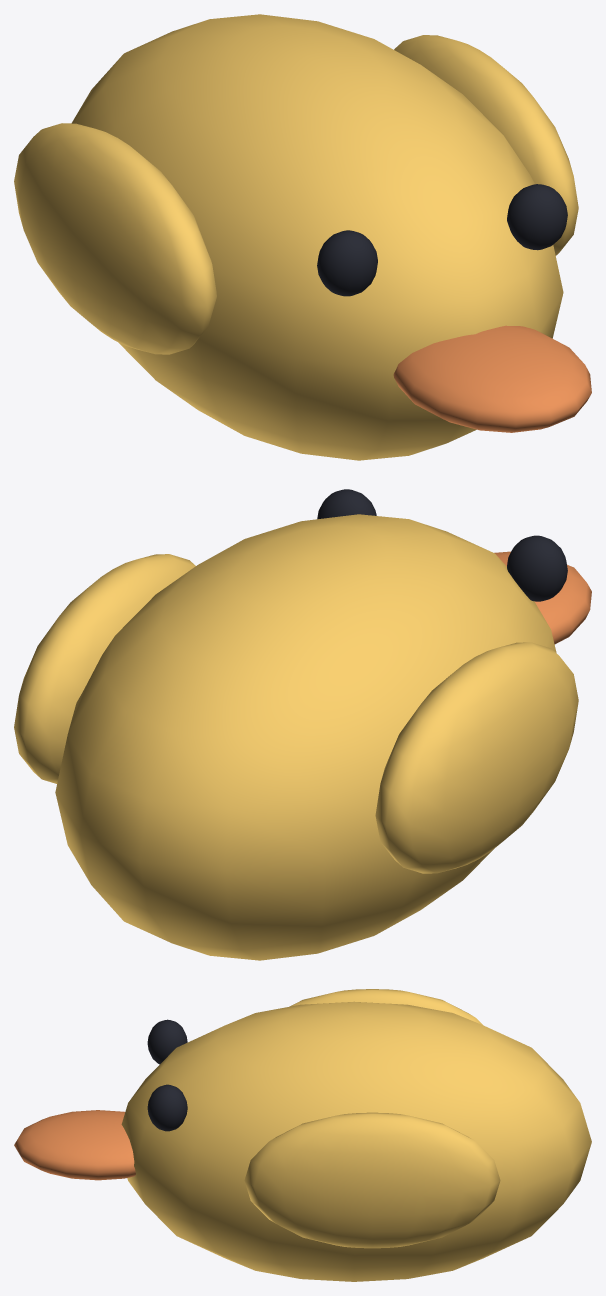
File: word-duck.glb
3 views of the same model, one above another, from view 1: azimuth 30°, elevation 25°; view 2: azimuth 150°, elevation 25°; view 3: azimuth 270°, elevation 25° (orthographic). The views are drawn at different scales.
Visible parts, largest first — view 1: round animal body, wing, beak, wing.001, round eye, round eye.001; view 2: round animal body, wing, wing.001, round eye, beak, round eye.001; view 3: round animal body, wing.001, beak, wing, round eye.001, round eye.
Part boxes in pixels (x1,y1,x2,y2): round animal body: [71, 14, 563, 460]; wing: [14, 123, 216, 354]; beak: [393, 325, 591, 432]; wing.001: [394, 35, 578, 255]; round eye: [317, 230, 377, 296]; round eye.001: [507, 184, 567, 250]; round animal body: [55, 514, 556, 960]; wing: [375, 642, 578, 873]; wing.001: [14, 554, 195, 783]; round eye: [507, 535, 567, 601]; beak: [494, 551, 591, 644]; round eye.001: [317, 489, 376, 519]; round animal body: [121, 1001, 591, 1281]; wing.001: [244, 1112, 500, 1248]; beak: [14, 1110, 135, 1180]; wing: [290, 989, 482, 1024]; round eye.001: [147, 1084, 187, 1131]; round eye: [147, 1019, 187, 1064].
Bounding box in the file's own units: 1 × 0.76 × 1.58.
